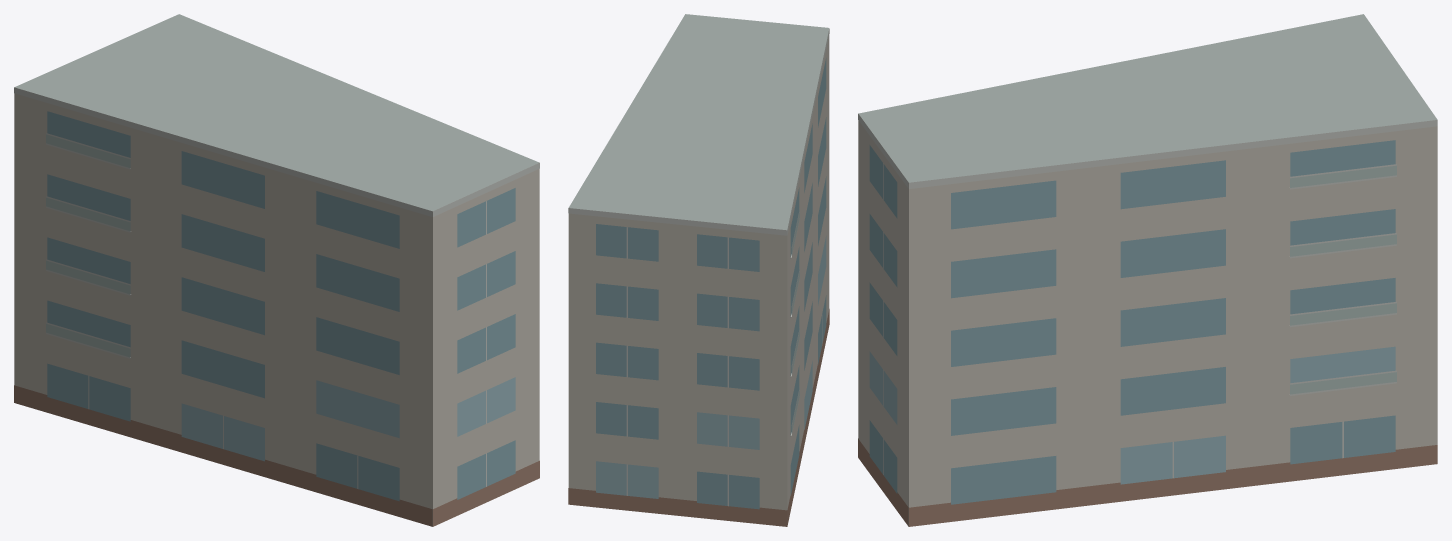
File: survey-upis-32491723.glb
3 renders of one model, left to right at view 1: azimuth 30°, elevation 25°; view 2: azimuth 150°, elevation 25°; view 3: azimuth 270°, elevation 25°, orthographic. The views are drawn at different scales.
Parts seen in each view (by area): view 1: survey-upis-32491723.tmp; view 2: survey-upis-32491723.tmp; view 3: survey-upis-32491723.tmp.
Boxes of the visible parts, x1,y1,x2,y2 form: survey-upis-32491723.tmp: [14, 14, 539, 526]; survey-upis-32491723.tmp: [568, 14, 829, 526]; survey-upis-32491723.tmp: [858, 14, 1437, 526].
Size of the model in its own units: 13.78 by 13.1 by 20.
